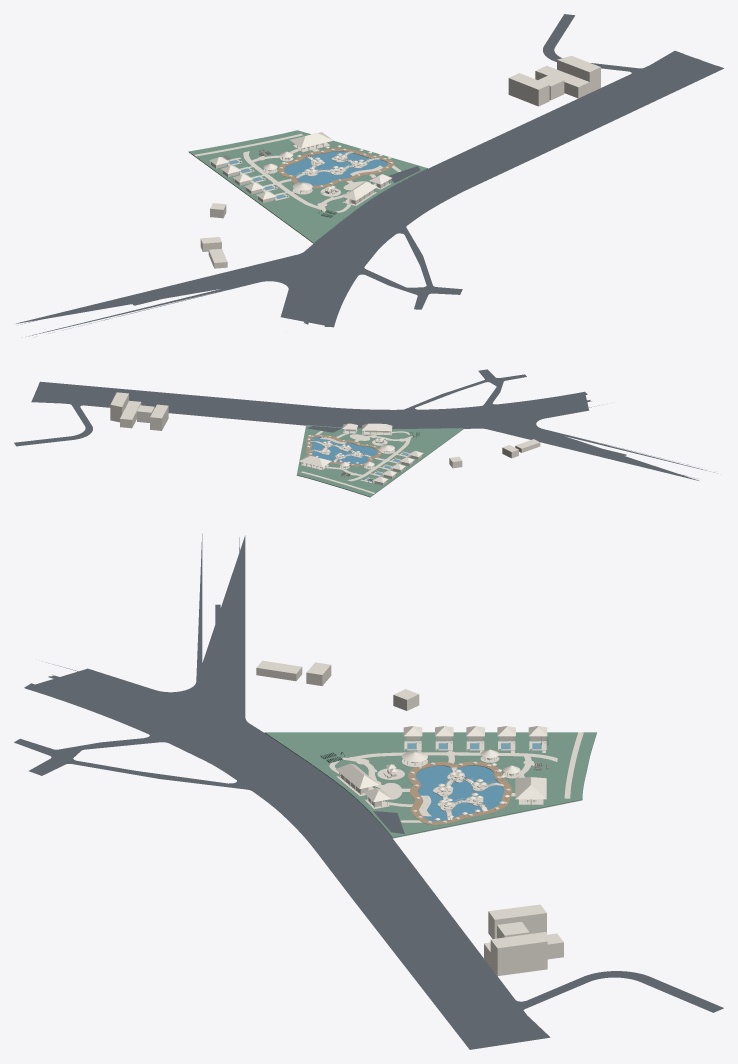
The model's file is al-kadhimiya-resort.glb.
The picture shows the model from 3 angles, top to bottom: view 1: azimuth 30°, elevation 25°; view 2: azimuth 150°, elevation 25°; view 3: azimuth 270°, elevation 25°; orthographic projection. The views are drawn at different scales.
Parts seen in each view (by area): view 1: ground, stone, green, water, wood; view 2: ground, stone, green, water, wood; view 3: ground, stone, green, water, wood.
Boxes of the visible parts, x1=… form: ground: x1=16, y1=14, x2=723, y2=336; stone: x1=189, y1=56, x2=600, y2=268; green: x1=188, y1=130, x2=427, y2=243; water: x1=228, y1=151, x2=387, y2=198; wood: x1=278, y1=148, x2=394, y2=188; ground: x1=14, y1=369, x2=714, y2=480; stone: x1=110, y1=392, x2=540, y2=497; green: x1=296, y1=425, x2=464, y2=497; water: x1=311, y1=437, x2=408, y2=481; wood: x1=306, y1=435, x2=381, y2=466; ground: x1=14, y1=533, x2=723, y2=1049; stone: x1=256, y1=660, x2=596, y2=976; green: x1=264, y1=732, x2=596, y2=838; water: x1=407, y1=743, x2=541, y2=821; wood: x1=408, y1=761, x2=512, y2=824.
Bounding box in the file's own units: 170 × 4.32 × 97.38.
